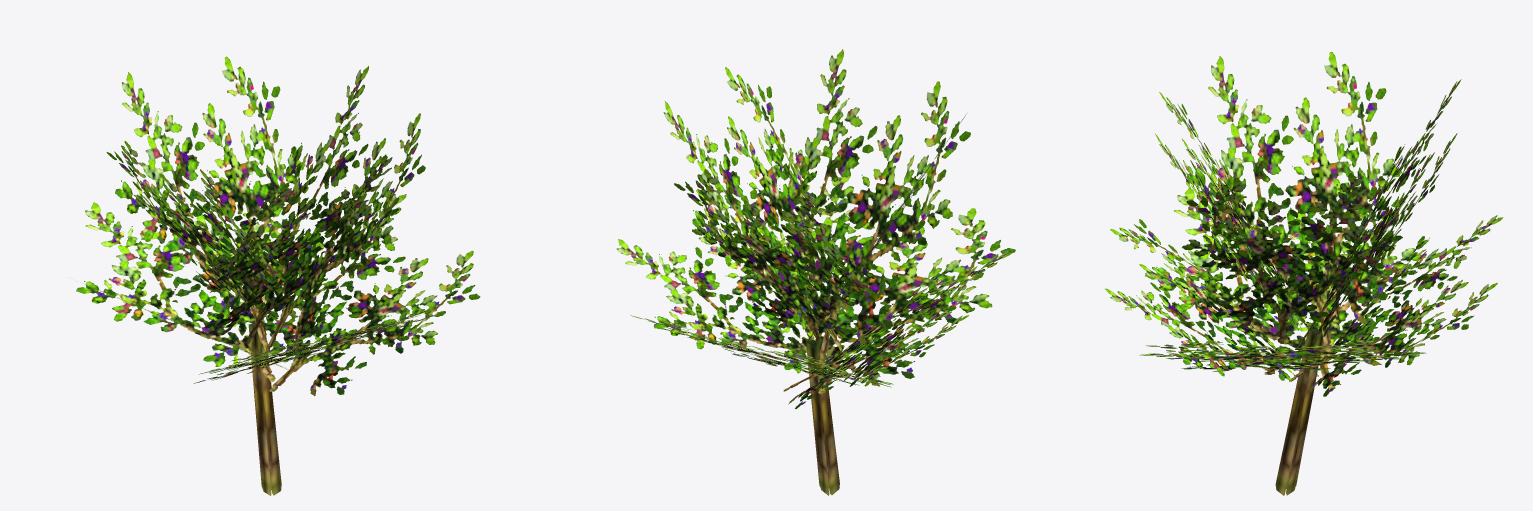
The model's file is wrld_foragebush_a.glb.
3 renders of one model, left to right at view 1: azimuth 30°, elevation 25°; view 2: azimuth 150°, elevation 25°; view 3: azimuth 270°, elevation 25°, orthographic. The views are drawn at different scales.
Parts seen in each view (by area): view 1: wrld_foragebush_a; view 2: wrld_foragebush_a; view 3: wrld_foragebush_a.
Boxes of the visible parts, <box> form: wrld_foragebush_a: <box>76,56,480,495</box>; wrld_foragebush_a: <box>616,49,1015,495</box>; wrld_foragebush_a: <box>1105,52,1503,495</box>.
Size of the model in its own units: 3.55 by 3.49 by 3.38.
1 material, 1 textured.
